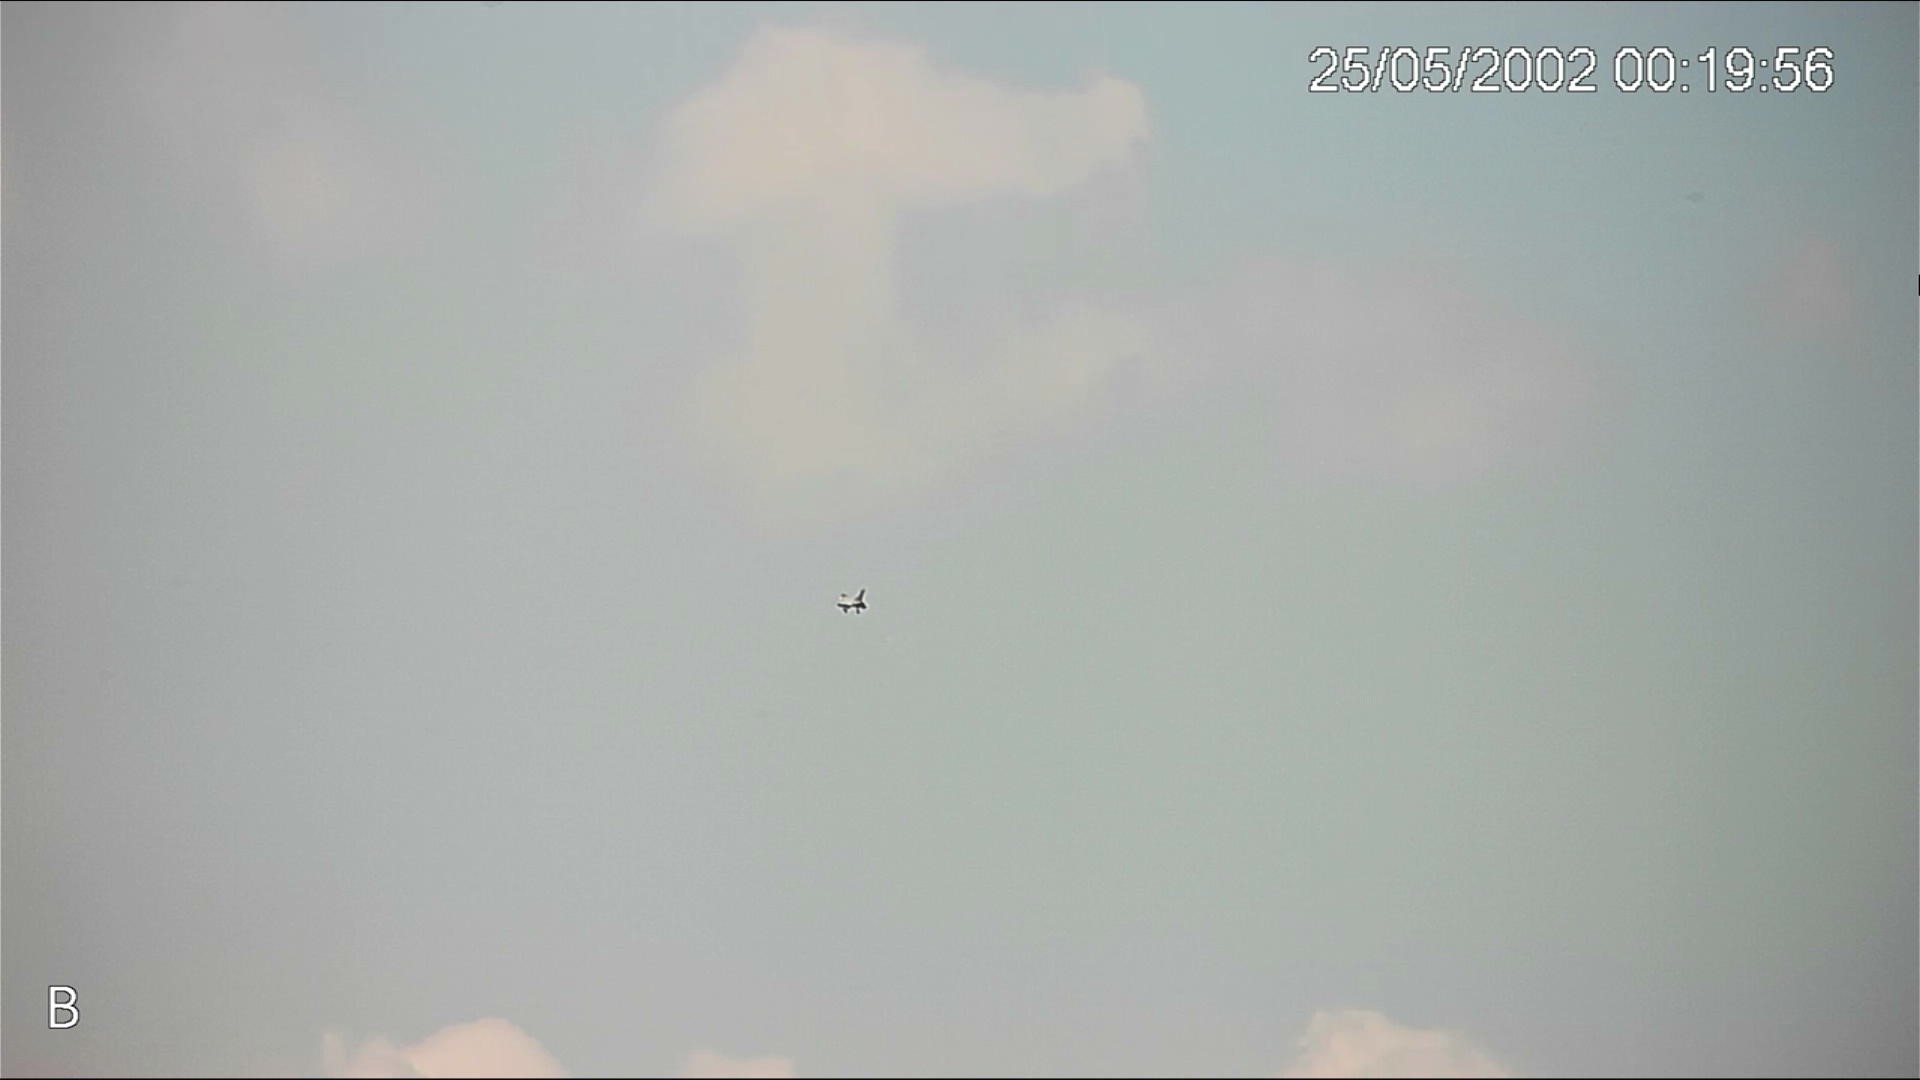SU_30: (828, 583, 869, 613)
